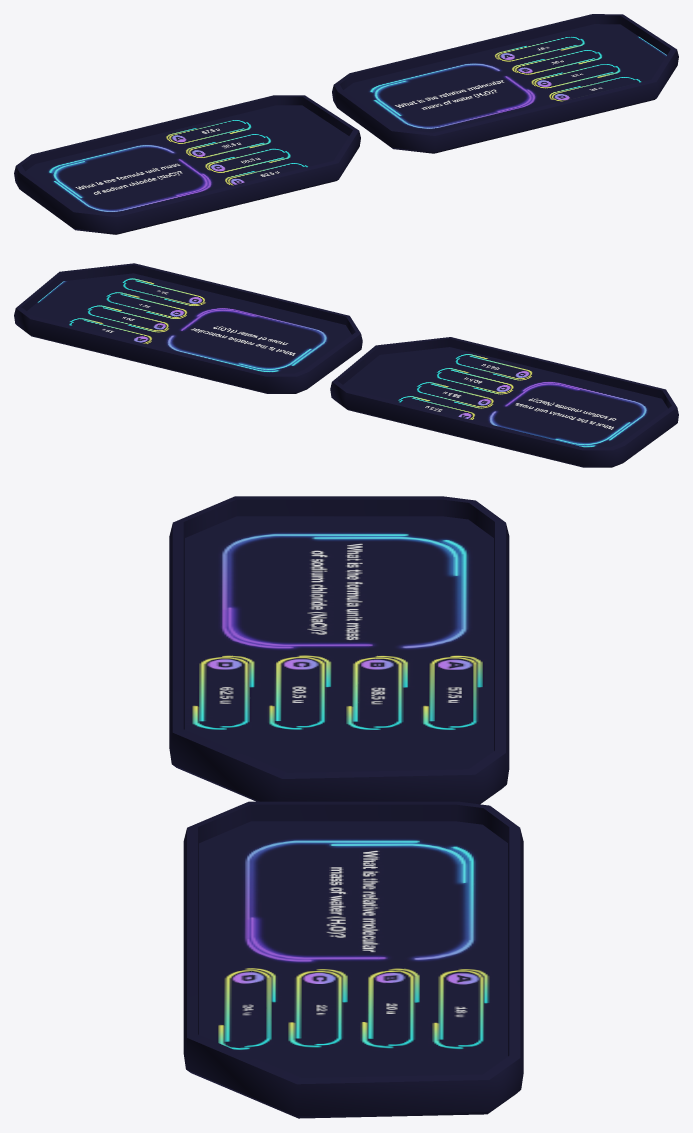
File: level_9.fbx
The picture shows the model from 3 angles, top to bottom: view 1: azimuth 30°, elevation 25°; view 2: azimuth 150°, elevation 25°; view 3: azimuth 270°, elevation 25°; orthographic projection. The views are drawn at different scales.
Parts seen in each view (by area): view 1: q612, q611; view 2: q612, q611; view 3: q611, q612.
Boxes of the visible parts, x1,y1,x2,y2 form: q612: (14,95,360,234); q611: (332,14,678,153); q612: (330,337,678,467); q611: (14,263,362,393); q611: (183,801,523,1118); q612: (169,496,509,804).
Bounding box in the file's own units: 1377 × 40.69 × 349.
Materials: 1 (1 with a texture image).
